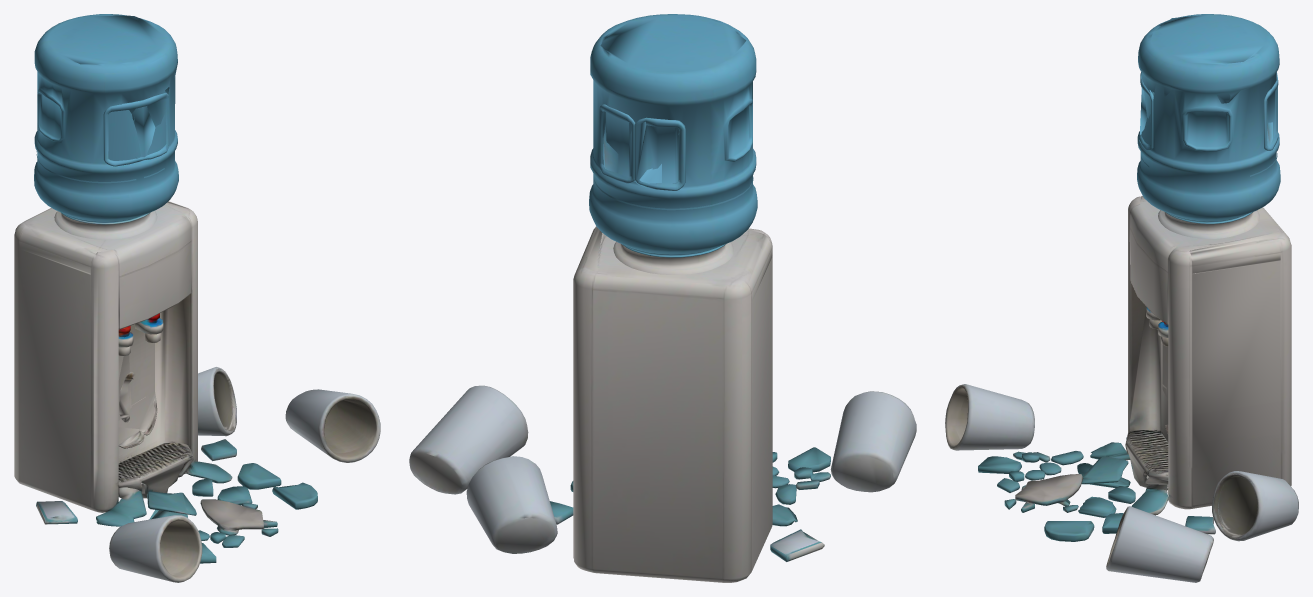
Rendered from broken_water_cooler_with_scattered_cups_aa26c38a_v1.glb.
The picture shows the model from 3 angles, left to right: view 1: azimuth 30°, elevation 25°; view 2: azimuth 150°, elevation 25°; view 3: azimuth 270°, elevation 25°; orthographic projection. The views are drawn at different scales.
Parts seen in each view (by area): view 1: material; view 2: material; view 3: material.
Part boxes in pixels (<box>): material: <box>14,14,380,582</box>; material: <box>409,14,916,582</box>; material: <box>945,14,1298,582</box>.
Size of the model in its own units: 1.48 by 1.9 by 1.39.
Materials: 1 (1 with a texture image).
